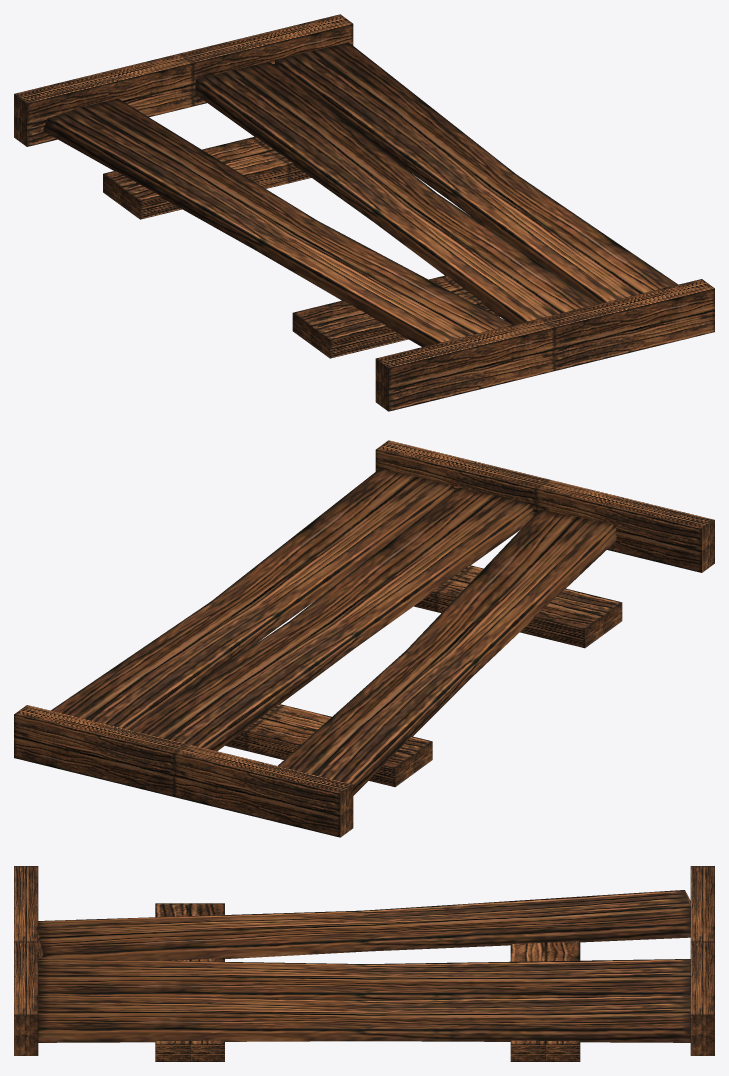
Rendered from RM_FLOATING_PLATFORM03.fbx.
3 renders of one model, top to bottom at view 1: azimuth 30°, elevation 25°; view 2: azimuth 150°, elevation 25°; view 3: azimuth 270°, elevation 25°, orthographic. The views are drawn at different scales.
Parts seen in each view (by area): view 1: RM_FLOATING_PLATFORM03; view 2: RM_FLOATING_PLATFORM03; view 3: RM_FLOATING_PLATFORM03.
Part boxes in pixels (x1,y1,x2,y2): RM_FLOATING_PLATFORM03: (14, 14, 714, 411); RM_FLOATING_PLATFORM03: (14, 440, 714, 837); RM_FLOATING_PLATFORM03: (14, 866, 714, 1061).
Bounding box in the file's own units: 18013 × 2635 × 35801.
Materials: 1 (1 with a texture image).
